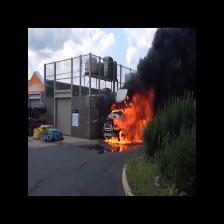fire: (111, 95, 154, 145)
smoke: (130, 28, 193, 93)
